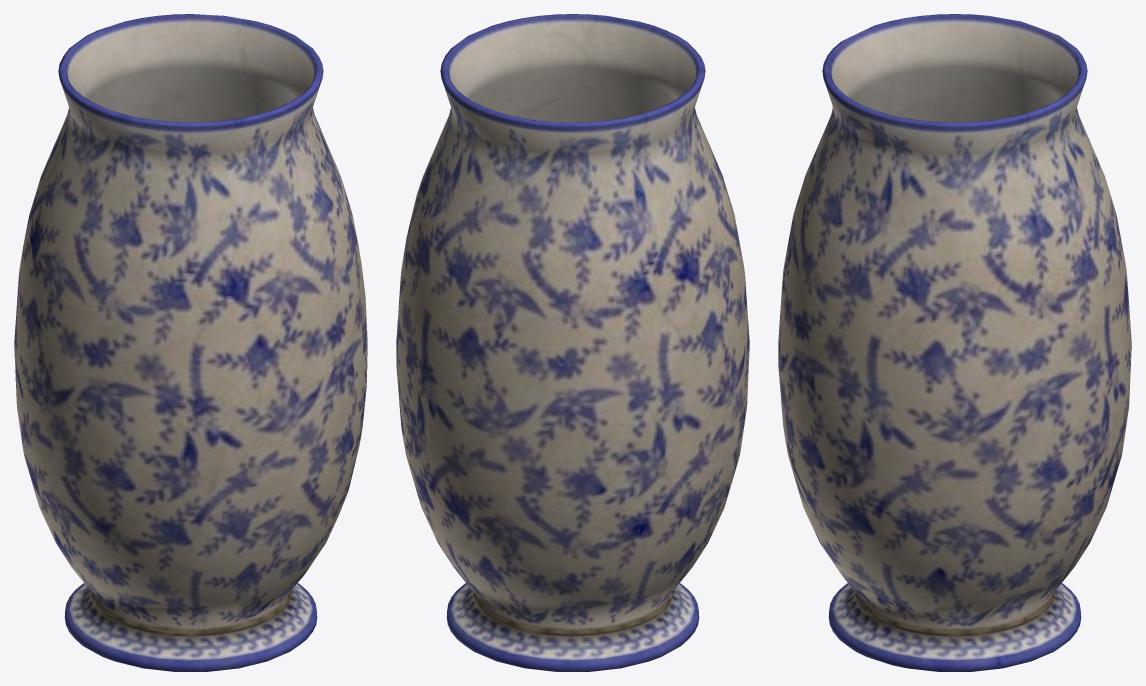
File: antique_ceramic_vase_01.glb
3 renders of one model, left to right at view 1: azimuth 30°, elevation 25°; view 2: azimuth 150°, elevation 25°; view 3: azimuth 270°, elevation 25°, orthographic.
Visible parts, largest first — view 1: antique_ceramic_vase_01; view 2: antique_ceramic_vase_01; view 3: antique_ceramic_vase_01.
Part boxes in pixels (left/top/right/bottom): antique_ceramic_vase_01: left=14, top=14, right=367, bottom=671; antique_ceramic_vase_01: left=396, top=14, right=749, bottom=671; antique_ceramic_vase_01: left=778, top=14, right=1131, bottom=671.
Bounding box in the file's own units: 0.255 × 0.4396 × 0.255.
1 material, 1 textured.
